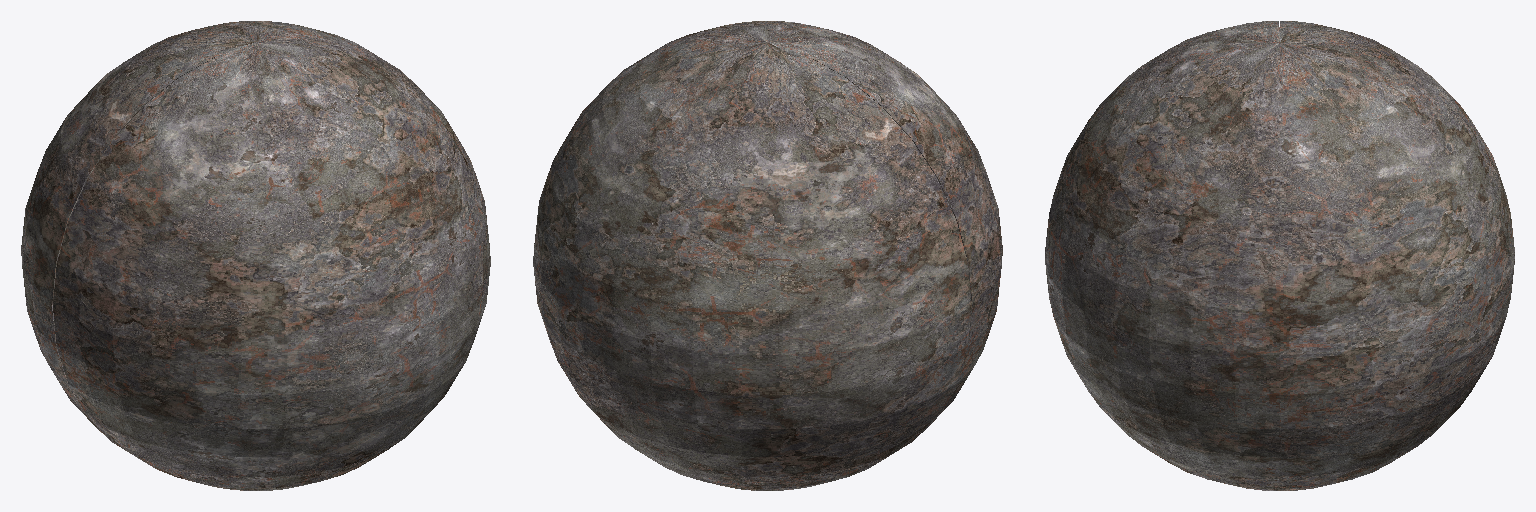
3 views of the same model, side by side, from view 1: azimuth 30°, elevation 25°; view 2: azimuth 150°, elevation 25°; view 3: azimuth 270°, elevation 25° (orthographic).
Visible parts, largest first — view 1: 球; view 2: 球; view 3: 球.
Boxes of the visible parts, <box> form: 球: <box>21,21,490,490</box>; 球: <box>533,21,1002,490</box>; 球: <box>1045,21,1514,490</box>.
Bounding box in the file's own units: 2 × 2 × 2.
1 materials, 1 textured.